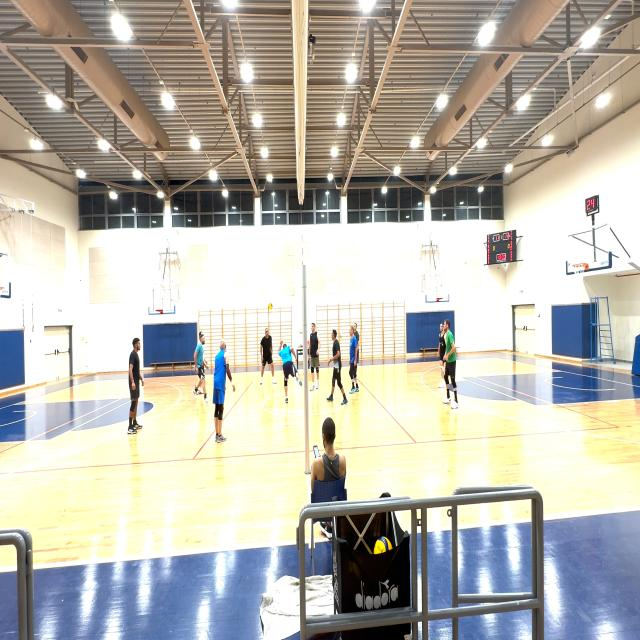volleyball: (373, 536, 392, 555), (268, 303, 272, 310)
